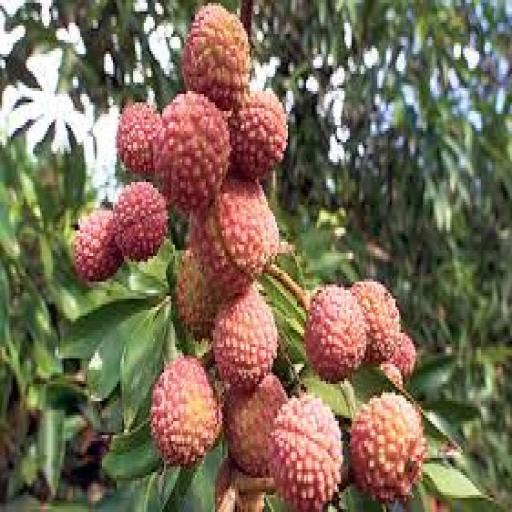lychee: (190, 177, 278, 295), (155, 92, 229, 213), (350, 393, 428, 503), (270, 396, 342, 511), (152, 356, 222, 466), (183, 3, 249, 110), (223, 373, 287, 477), (214, 288, 276, 389), (305, 285, 366, 381), (230, 92, 287, 179), (350, 279, 400, 364), (175, 251, 222, 338), (115, 183, 167, 261), (73, 208, 122, 281), (117, 103, 162, 176), (216, 458, 264, 511), (390, 333, 417, 378), (379, 362, 402, 386)
